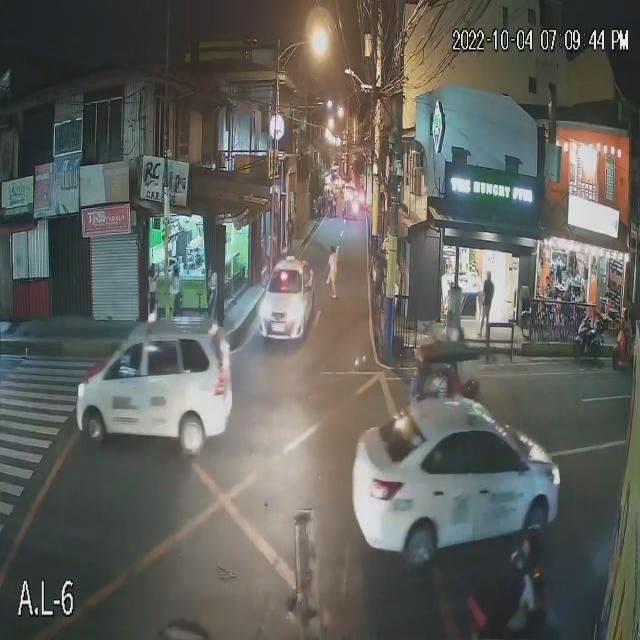motorcycle: (570, 317, 609, 365), (610, 326, 638, 372)
